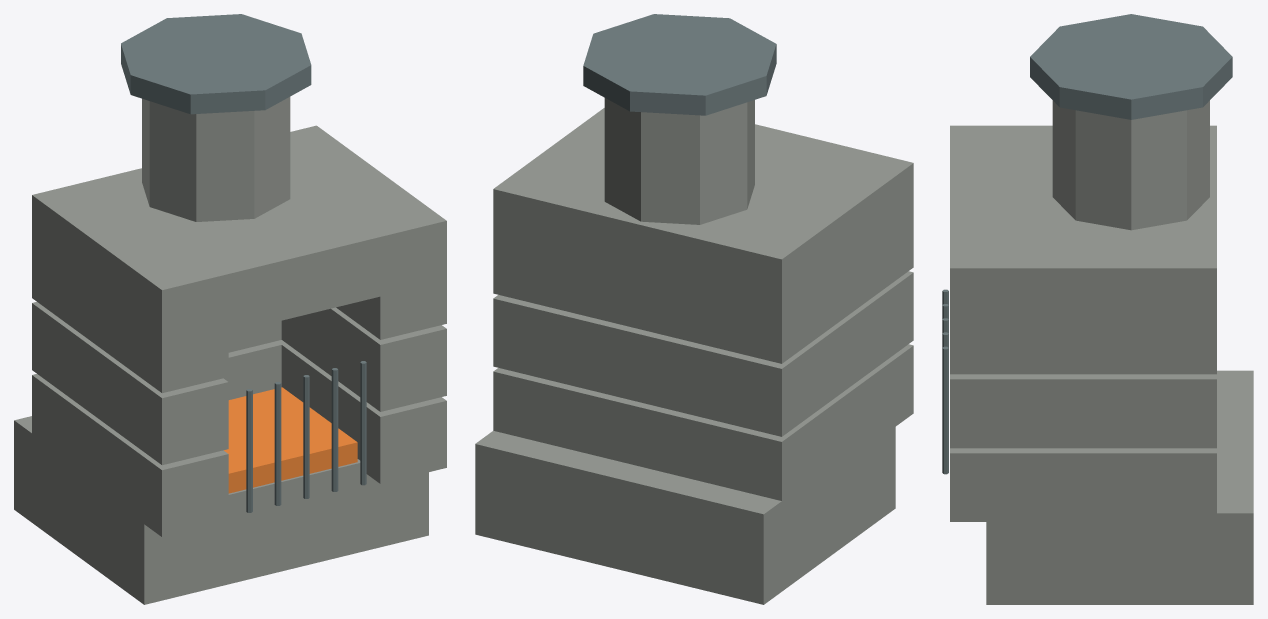
File: campaign_smelter.glb
3 views of the same model, side by side, from view 1: azimuth 30°, elevation 25°; view 2: azimuth 150°, elevation 25°; view 3: azimuth 270°, elevation 25° (orthographic). The views are drawn at different scales.
Visible parts, largest first — view 1: campaign_smelter; view 2: campaign_smelter; view 3: campaign_smelter.
Boxes of the visible parts, left/top/right/bottom form: campaign_smelter: left=14, top=14, right=446, bottom=604; campaign_smelter: left=475, top=14, right=913, bottom=604; campaign_smelter: left=942, top=14, right=1253, bottom=604.
Size of the model in its own units: 1.2 by 1.87 by 1.11.
